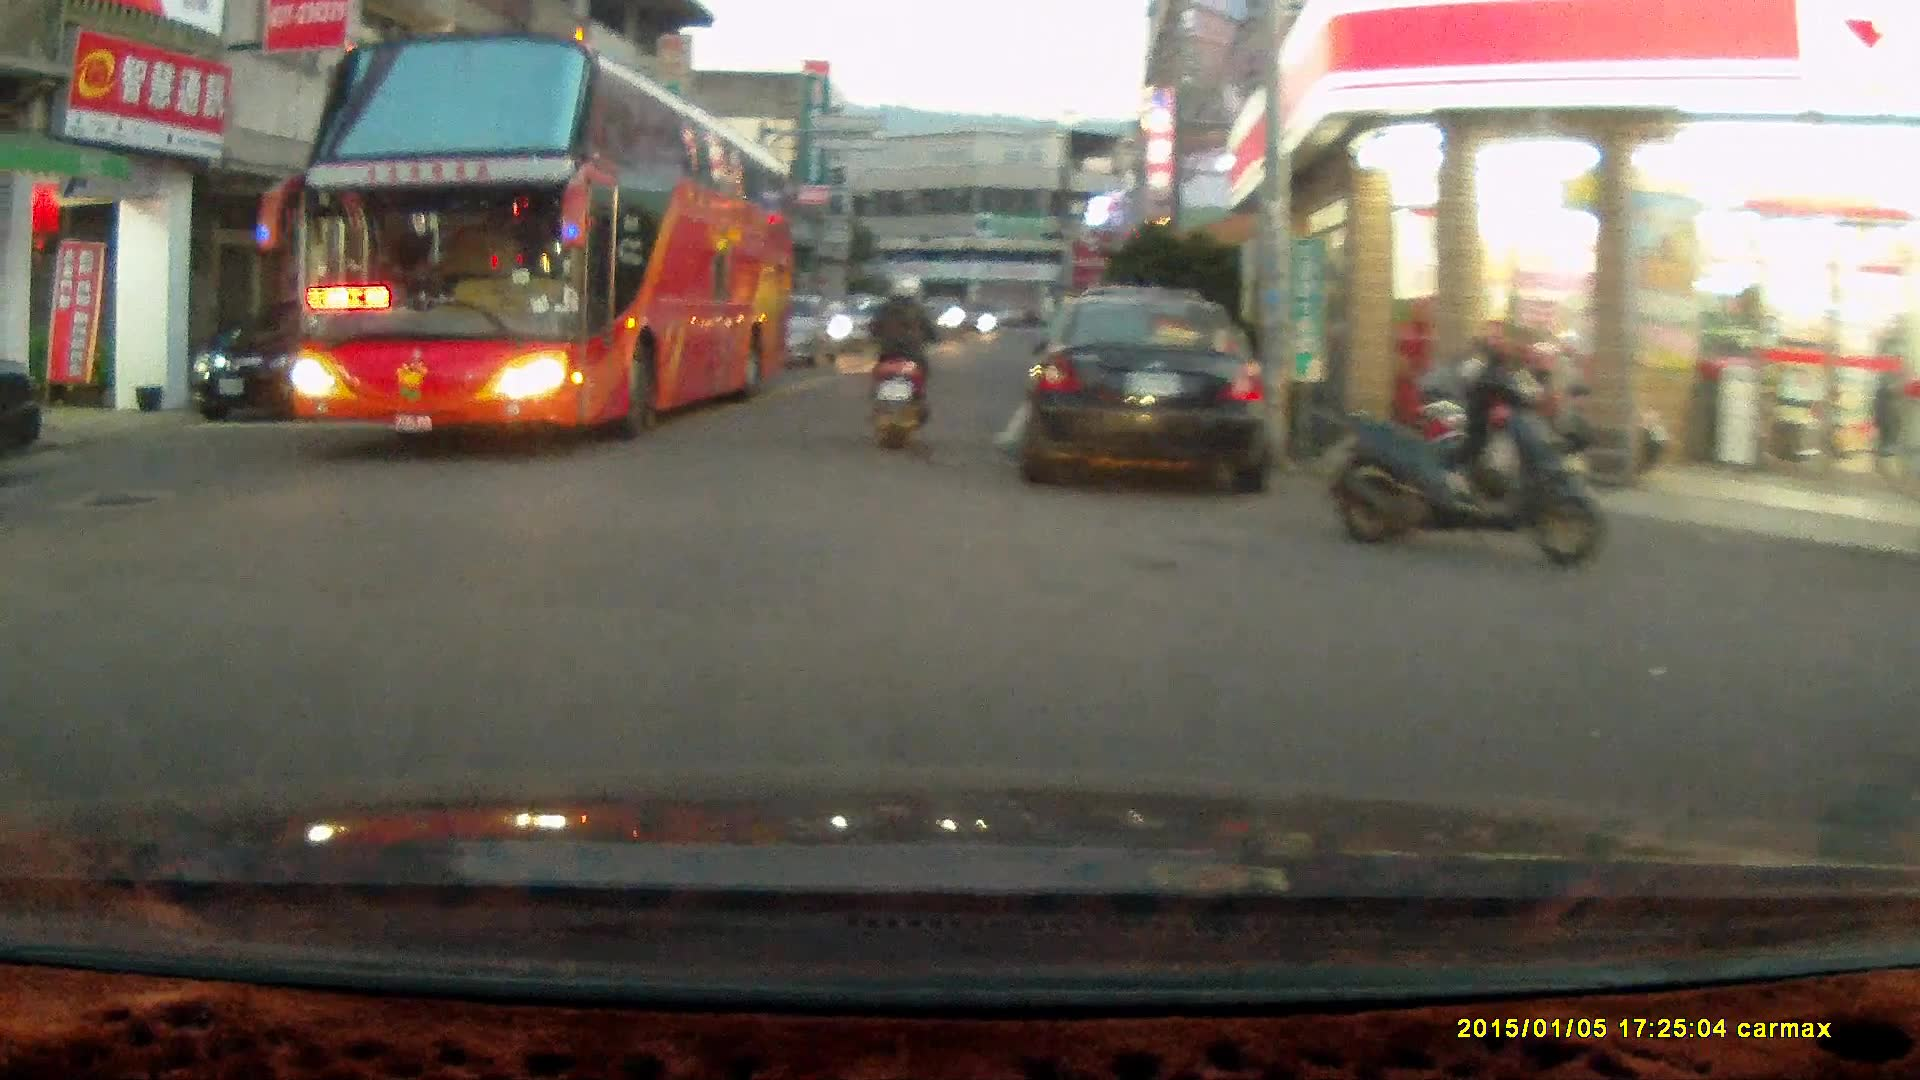rider: (856, 270, 936, 452)
vehicle: (279, 32, 801, 445), (1012, 288, 1278, 490), (188, 304, 380, 425)
